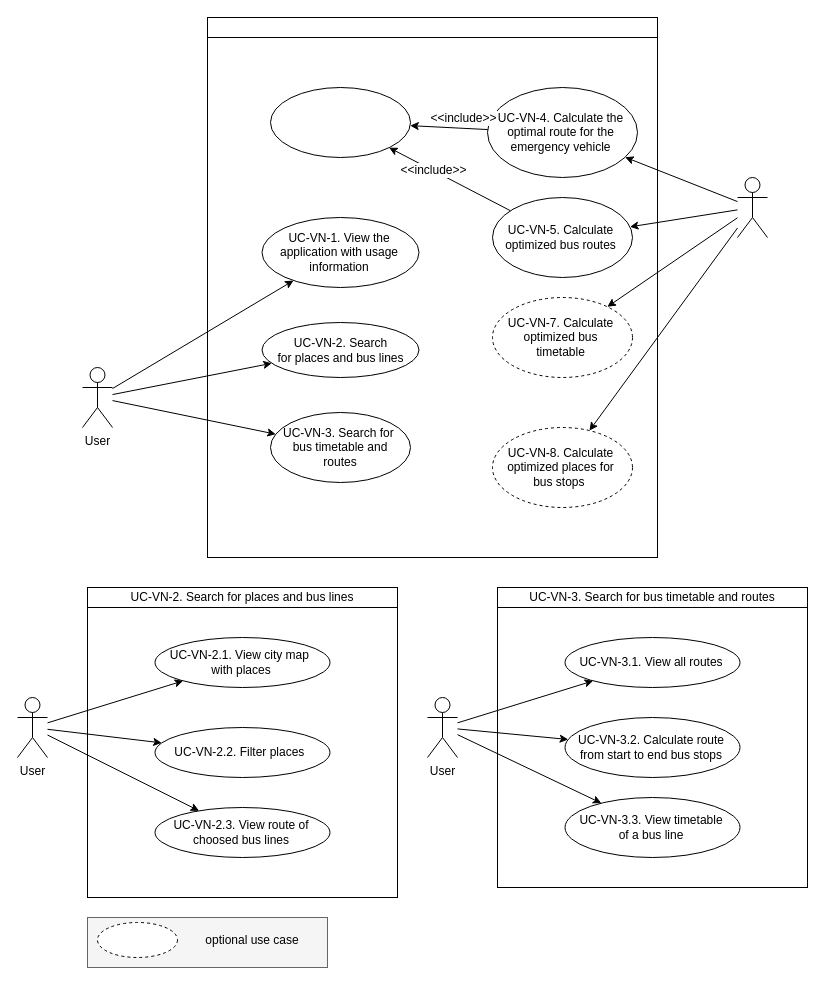
Some shapes in this 825 by 985 pixel diagram are drawn without their labels. Here are the shapes that lost their labels. From the top down, the centre of each, then its label:
At point 432,27: "Verkehrs-Node".
At point 340,122: "UC-VN-6. Listen for events in the Organism".
At point 752,207: "Organism".
At point 137,940: "Use Case".
